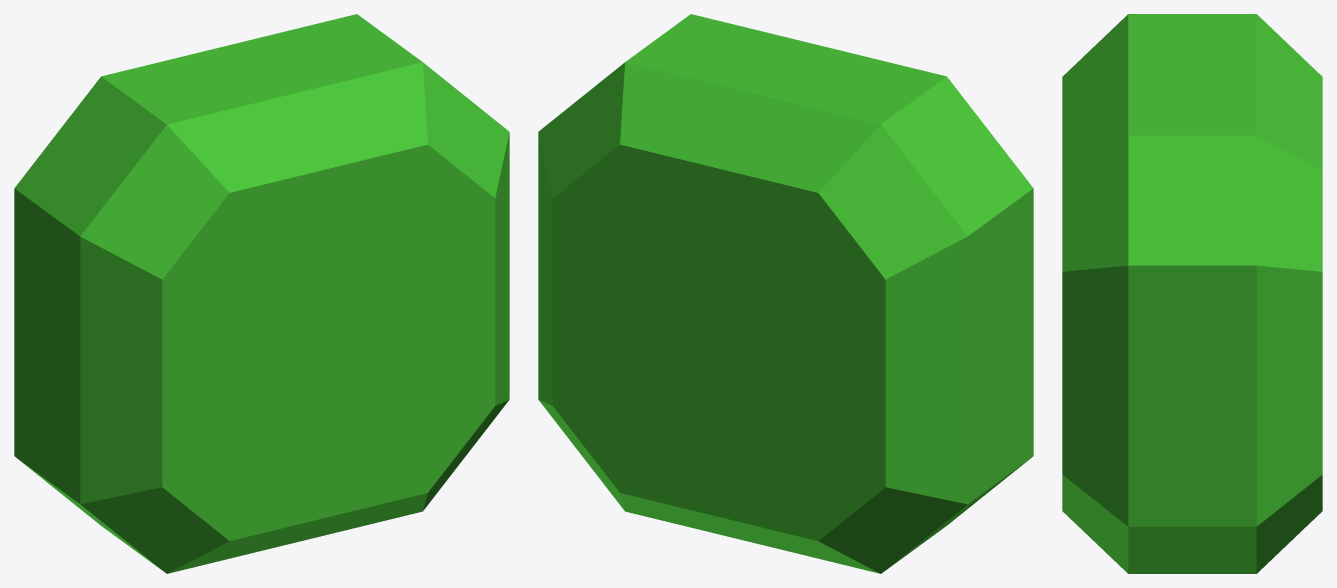
File: jewel2_emerald.fbx
3 views of the same model, side by side, from view 1: azimuth 30°, elevation 25°; view 2: azimuth 150°, elevation 25°; view 3: azimuth 270°, elevation 25° (orthographic). The views are drawn at different scales.
Visible parts, largest first — view 1: jewel2_emerald; view 2: jewel2_emerald; view 3: jewel2_emerald.
Boxes of the visible parts, left/top/right/bottom form: jewel2_emerald: left=14, top=14, right=509, bottom=573; jewel2_emerald: left=538, top=14, right=1033, bottom=573; jewel2_emerald: left=1062, top=14, right=1322, bottom=573.
Size of the model in its own units: 0.5969 by 0.5969 by 0.3217.
